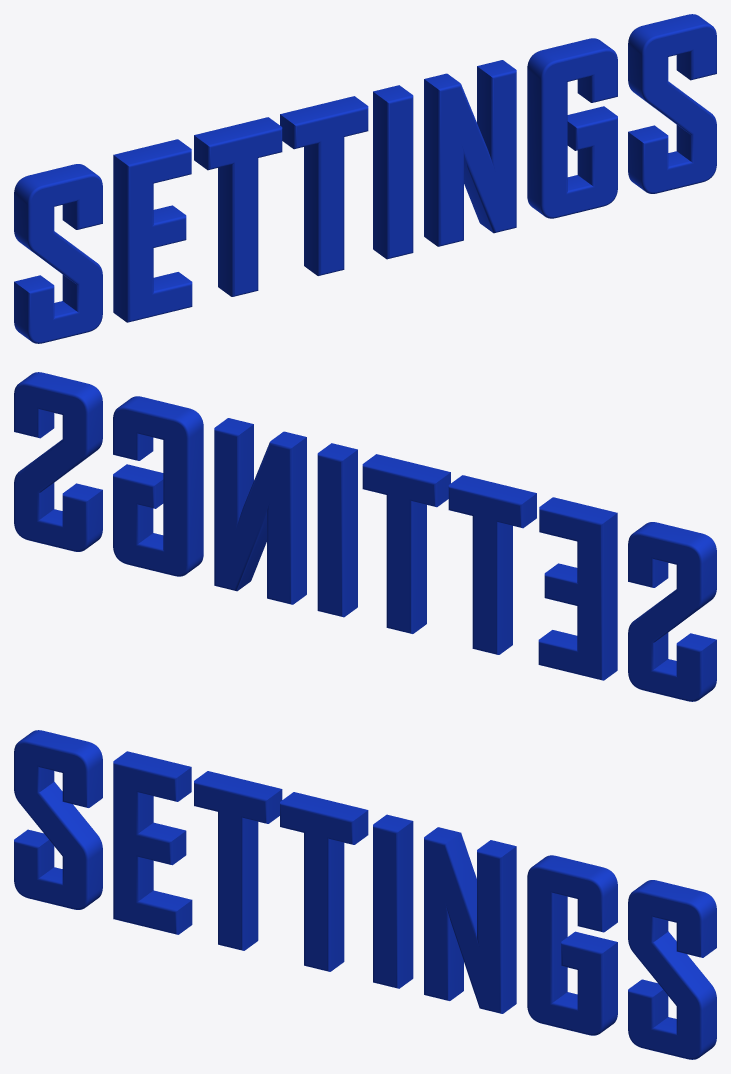
Rendered from settings.obj.
3 renders of one model, top to bottom at view 1: azimuth 30°, elevation 25°; view 2: azimuth 150°, elevation 25°; view 3: azimuth 330°, elevation 25°, orthographic.
Parts seen in each view (by area): view 1: Text_Text.001; view 2: Text_Text.001; view 3: Text_Text.001.
Boxes of the visible parts, <box> form: Text_Text.001: <box>14,14,716,343</box>; Text_Text.001: <box>14,372,716,701</box>; Text_Text.001: <box>14,730,716,1059</box>.
Size of the model in its own units: 3.01 by 0.6583 by 0.12.
